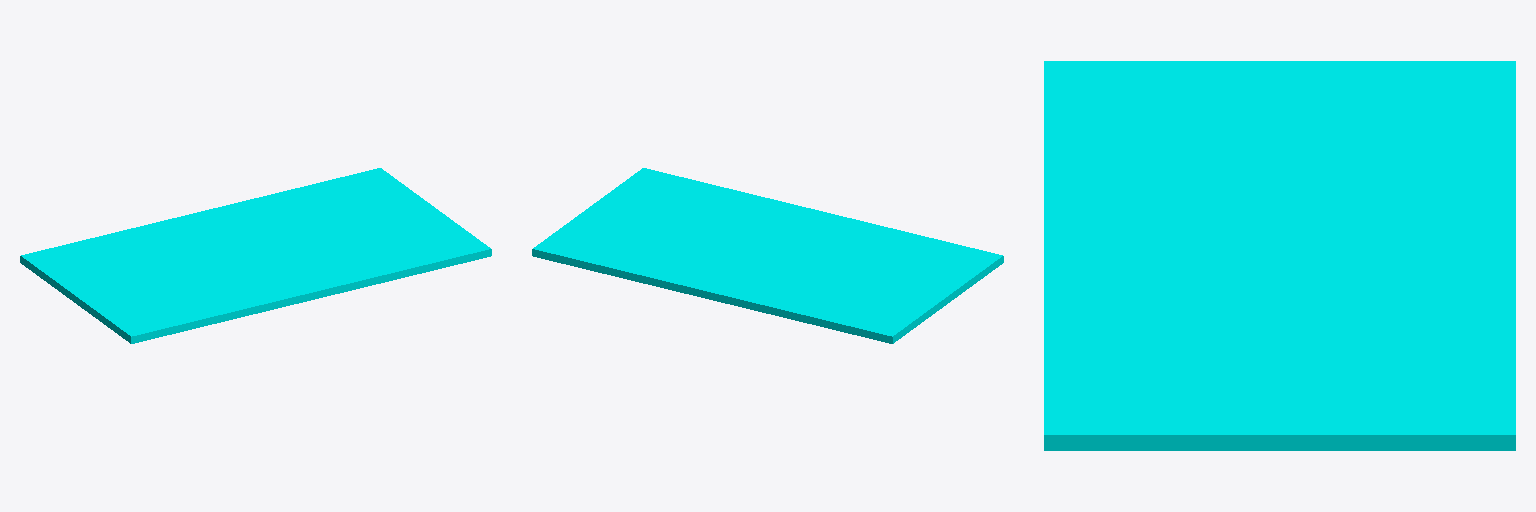
The robot description file, URDF, robot "dock_station":
<robot name="dock_station">
   <link name="link1" >
      <inertial>
         <origin xyz="0 0 0" rpy="0 0 0"/>
         <mass value="1"/>
         <inertia ixx="1"  ixy="0"  ixz="0" iyy="100" iyz="0" izz="1" />
      </inertial>

      <visual>
         <origin xyz="0 0 0" rpy="0 0 0" />
         <geometry>
            <box size="1.5 0.8 0.03" />
         </geometry>
         <material name="Cyan">
            <color rgba="0 1.0 1.0 1.0"/>
         </material>
      </visual>

      <collision>
         <origin xyz="0 0 0" rpy="0 0 0"/>
         <geometry>
            <cylinder radius="1" length="0.5"/>
         </geometry>
      </collision>
   </link>

</robot>

--- What the picture shows (computed from the rendered views, not written in the file) ---
The picture shows the robot from 3 angles, left to right: view 1: azimuth 30°, elevation 25°; view 2: azimuth 150°, elevation 25°; view 3: azimuth 270°, elevation 25°; orthographic projection.
Robot: dock_station — 1 links, 0 joints (none); root link link1; default pose: every joint at zero.
Visible links, largest first — view 1: link1; view 2: link1; view 3: link1.
Link boxes in pixels (left/top/right/bottom): link1: left=20, top=168, right=491, bottom=343; link1: left=532, top=168, right=1003, bottom=343; link1: left=1044, top=61, right=1515, bottom=450.
Size in the robot's own frame: 1.5 by 0.8 by 0.03 metres.
Geometry: primitives only (box / cylinder / sphere), no mesh files.
